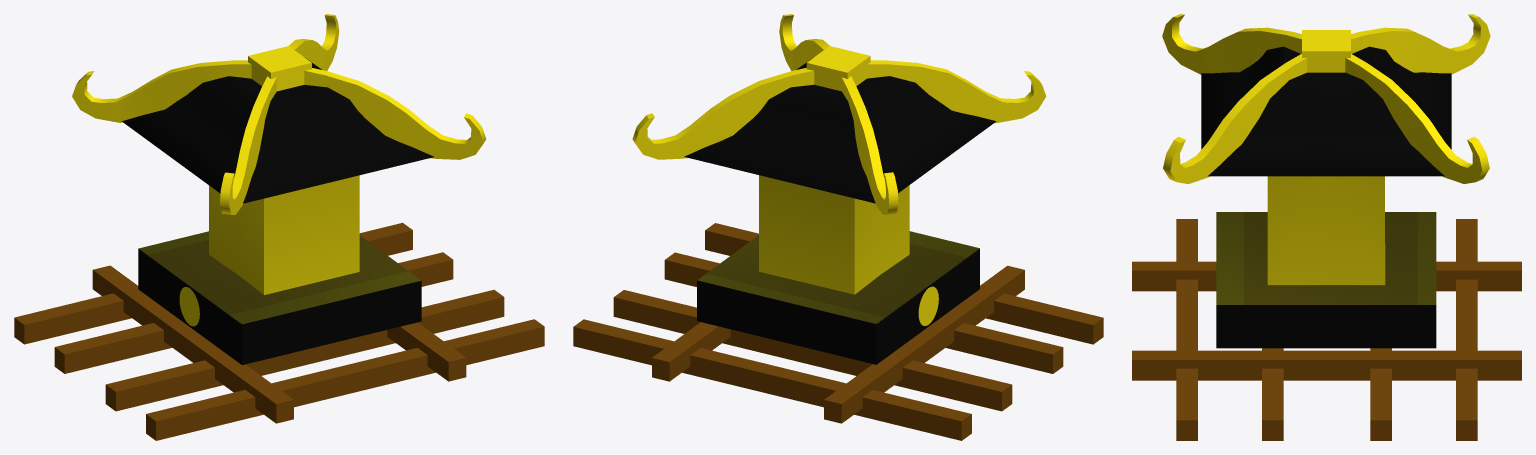
File: Omikosi.fbx
3 renders of one model, left to right at view 1: azimuth 30°, elevation 25°; view 2: azimuth 150°, elevation 25°; view 3: azimuth 270°, elevation 25°, orthographic. The views are drawn at different scales.
Visible parts, largest first — view 1: polySurface9, polySurface18, polySurface11, polySurface12; view 2: polySurface9, polySurface18, polySurface11, polySurface12; view 3: polySurface9, polySurface18, polySurface11, polySurface12.
Boxes of the visible parts, x1,y1,x2,y2 form: polySurface9: (72, 14, 486, 214); polySurface18: (14, 222, 544, 440); polySurface11: (138, 231, 421, 364); polySurface12: (209, 175, 359, 295); polySurface9: (632, 14, 1046, 214); polySurface18: (573, 223, 1103, 440); polySurface11: (697, 231, 979, 364); polySurface12: (759, 175, 909, 294); polySurface9: (1162, 14, 1490, 183); polySurface18: (1132, 219, 1521, 440); polySurface11: (1216, 212, 1436, 348); polySurface12: (1267, 176, 1385, 285).
Bounding box in the file's own units: 22 × 15.28 × 18.
Materials: 3 (3 with a texture image).
